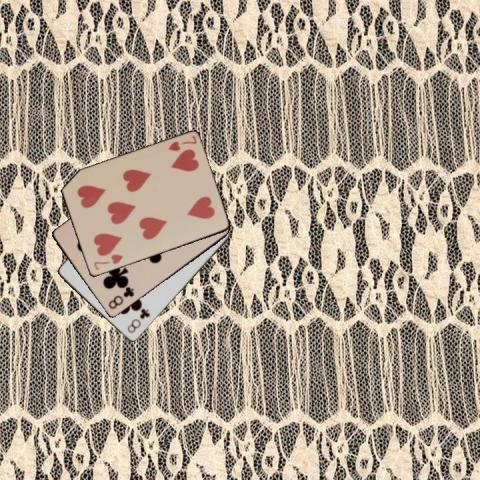7h: (91, 251, 124, 272), (165, 133, 198, 153)
8c: (106, 284, 136, 311), (124, 306, 151, 335)
